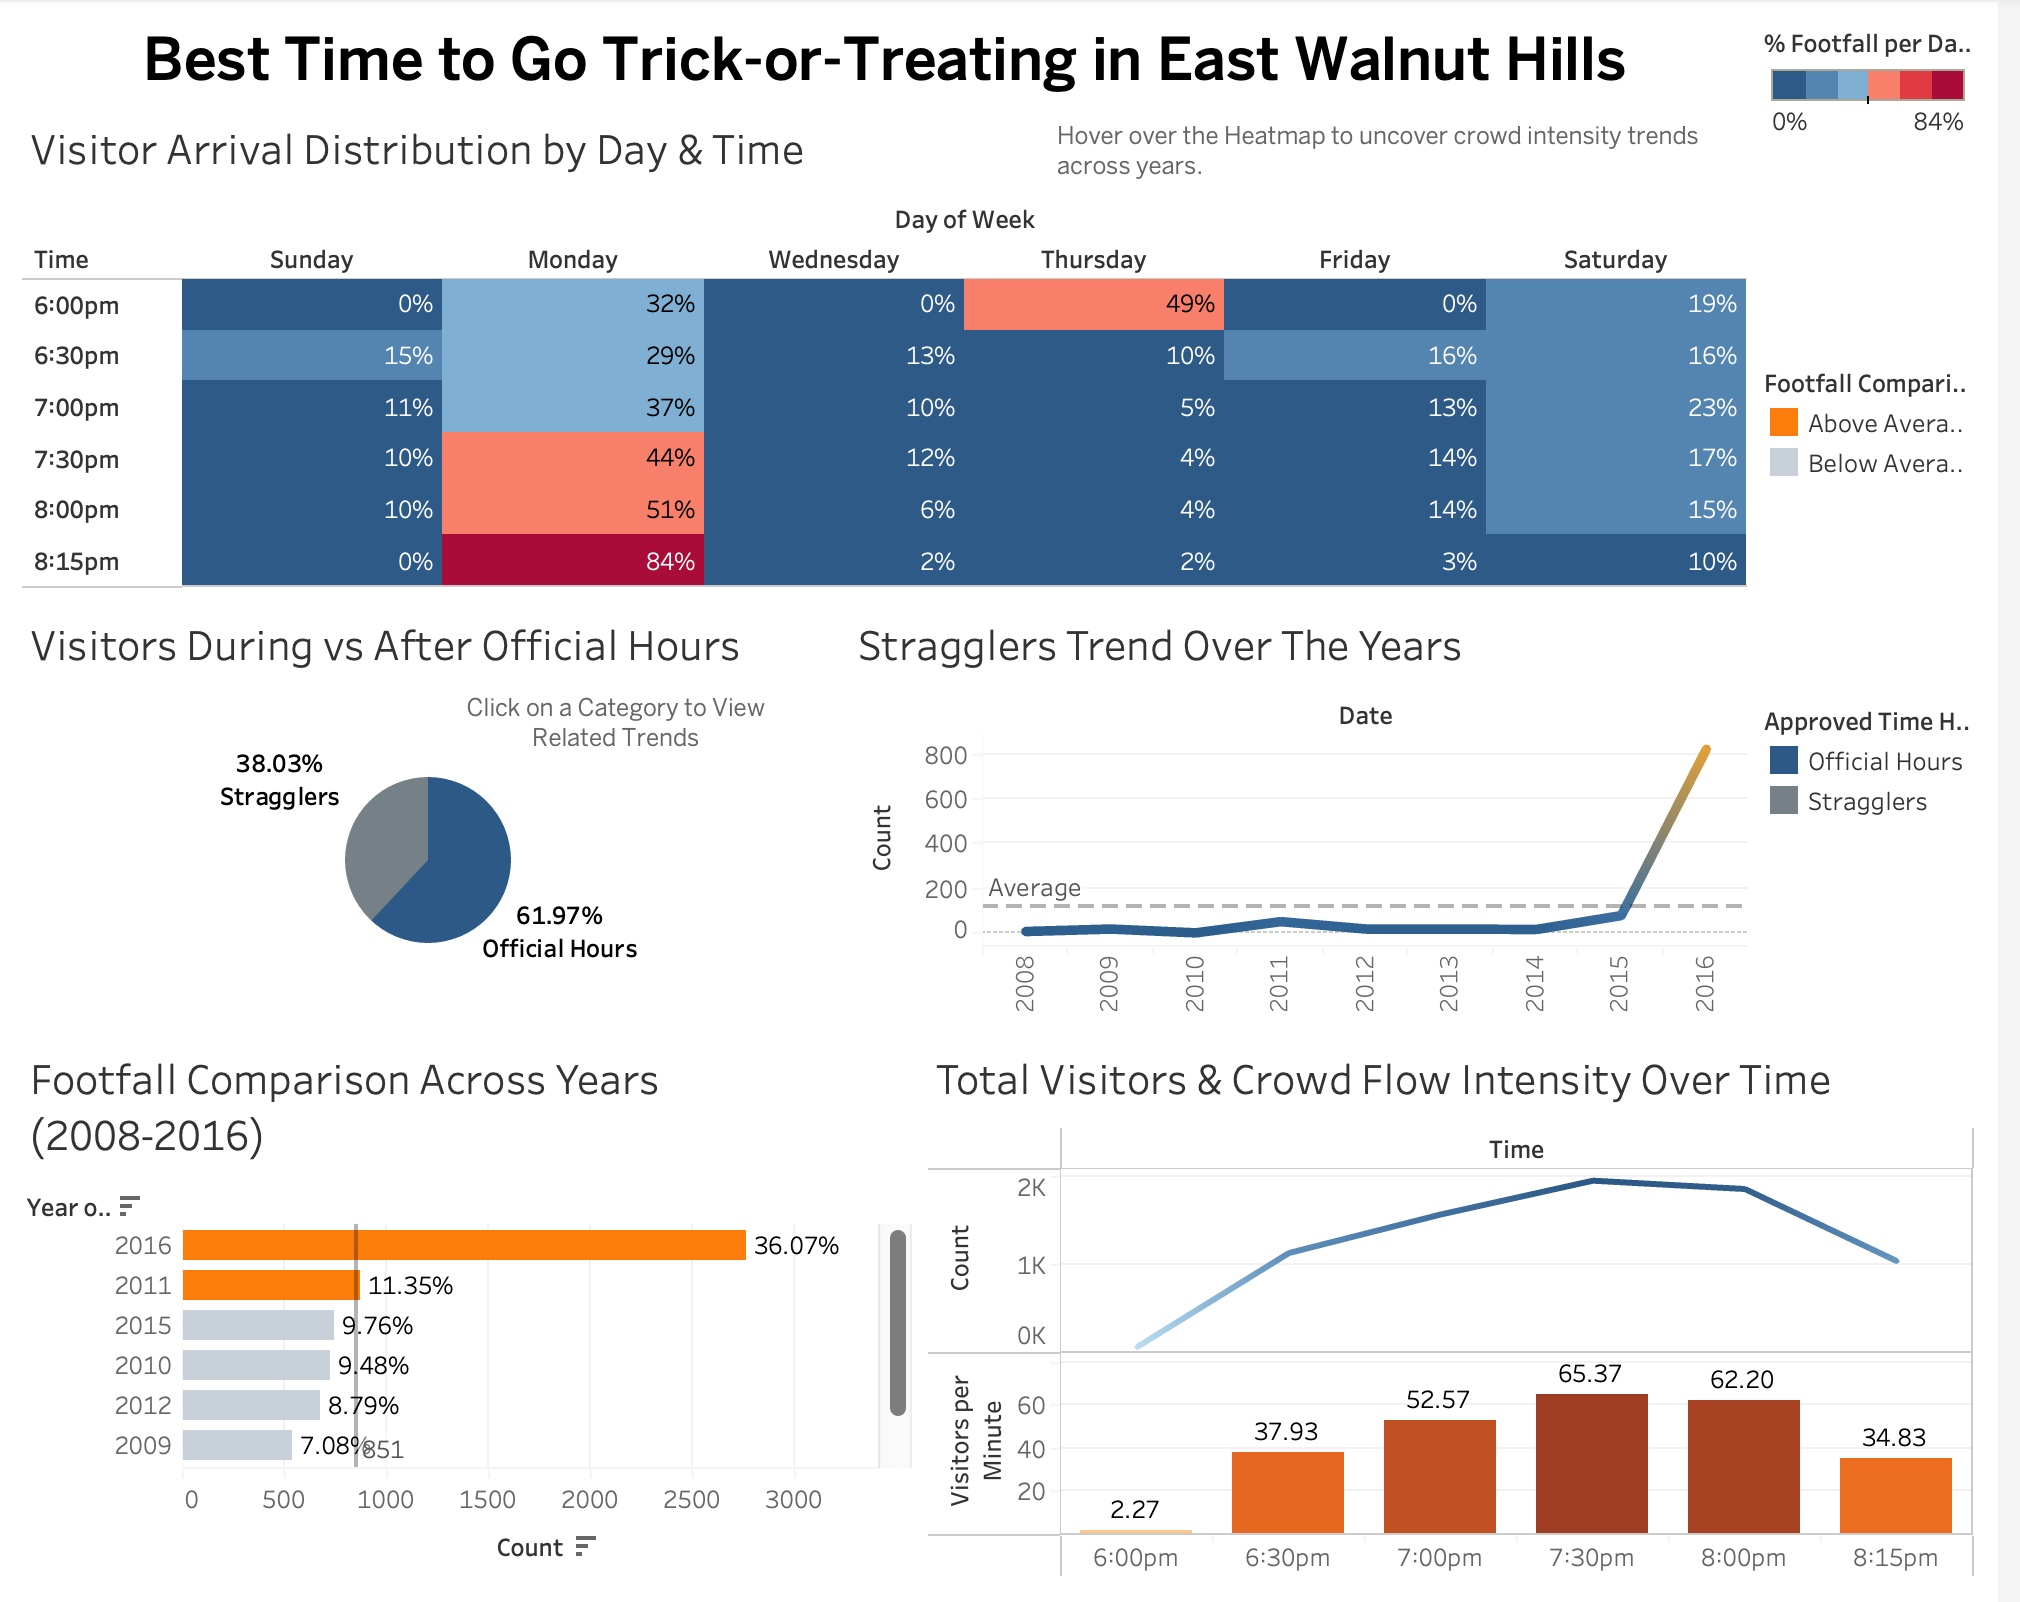

Layout of this report page (visuals, bound fields, positions):
{"tool":"tableau","page":{"name":"Trick-Or-Treat Dashboard","canvas":[1000,800],"ordinal":0},"visuals":[{"type":"title","box":[8,8,871,43]},{"type":"legend","title":"Visitor Arrival Distribution by Day & Time","param":"[federated.10o9g8h17e2ok319o4b2817kfu8v].[usr:Calculation_2993908657496690702:qk","box":[879,8,113,170]},{"type":"worksheet","title":"Visitor Arrival Distribution by Day & Time","mark":"Square","rows":["Time"],"cols":["Day of Week"],"box":[8,51,871,246]},{"type":"text","box":[527,58,333,34]},{"type":"legend","title":"Footfall Comparison Across Years (2008-2016)","param":"[federated.10o9g8h17e2ok319o4b2817kfu8v].[none:Calculation_2993908657473953798:n","box":[879,178,113,169]},{"type":"worksheet","title":"Visitors During vs After Official Hours","mark":"Pie","box":[8,299,414.2,217]},{"type":"worksheet","title":"Stragglers Trend Over The Years","mark":"Automatic","rows":["Count"],"cols":["Date"],"box":[422.2,299,456.8,217]},{"type":"text","box":[228,341,162,36]},{"type":"legend","title":"Visitors During vs After Official Hours","param":"[federated.10o9g8h17e2ok319o4b2817kfu8v].[none:Calculation_2993908657162256384:n","box":[879,347,113,169]},{"type":"worksheet","title":"Footfall Comparison Across Years (2008-2016)","mark":"Bar","rows":["Date"],"cols":["Count"],"box":[8,516,453,276]},{"type":"worksheet","title":"Total Visitors & Crowd Flow Intensity Over Time","mark":"Automatic","rows":["Count","Calculation_2993908657449816065"],"cols":["Time"],"box":[461,516,531,276]}]}

Visuals, with their boxes in screenshot pixels (x1, y1, x2, y2), scaled from the page's 1000x800 canvas onto the 2020x1602 screenshot:
title: bbox=[16, 16, 1776, 102]
"Visitor Arrival Distribution by Day & Time" legend: bbox=[1776, 16, 2004, 356]
"Visitor Arrival Distribution by Day & Time" worksheet (Square marks): bbox=[16, 102, 1776, 595]
text: bbox=[1065, 116, 1737, 184]
"Footfall Comparison Across Years (2008-2016)" legend: bbox=[1776, 356, 2004, 695]
"Visitors During vs After Official Hours" worksheet (Pie marks): bbox=[16, 599, 853, 1033]
"Stragglers Trend Over The Years" worksheet: bbox=[853, 599, 1776, 1033]
text: bbox=[461, 683, 788, 755]
"Visitors During vs After Official Hours" legend: bbox=[1776, 695, 2004, 1033]
"Footfall Comparison Across Years (2008-2016)" worksheet (Bar marks): bbox=[16, 1033, 931, 1586]
"Total Visitors & Crowd Flow Intensity Over Time" worksheet: bbox=[931, 1033, 2004, 1586]
